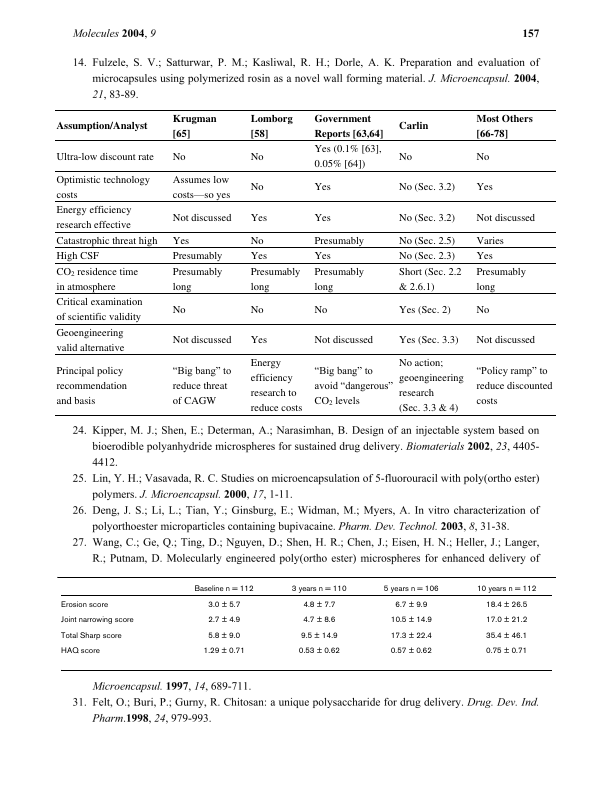borderless: (55, 108, 556, 415), (56, 575, 552, 670)
cell: (398, 356, 465, 415), (314, 362, 394, 408), (475, 362, 554, 407), (55, 364, 128, 407), (250, 356, 303, 415), (172, 362, 232, 407), (55, 173, 151, 201), (55, 295, 144, 324), (55, 265, 139, 293), (55, 203, 132, 232), (314, 111, 384, 140), (314, 142, 383, 171), (55, 326, 125, 354), (398, 265, 463, 293), (475, 111, 534, 140), (172, 173, 231, 202), (475, 265, 527, 293), (172, 265, 223, 293), (250, 265, 301, 293), (314, 265, 365, 293), (55, 234, 158, 247), (172, 111, 218, 140), (55, 119, 148, 133), (55, 150, 155, 163), (250, 111, 294, 140), (398, 333, 460, 347), (475, 333, 536, 347), (172, 333, 232, 347), (314, 333, 374, 347), (398, 180, 456, 194), (398, 249, 456, 263), (475, 211, 536, 224), (172, 211, 232, 224), (398, 211, 456, 224), (398, 234, 456, 247), (59, 616, 134, 626), (172, 249, 223, 263), (398, 303, 452, 316), (314, 234, 365, 247), (55, 249, 100, 263), (59, 631, 122, 641), (475, 584, 537, 594), (193, 584, 254, 594), (290, 584, 347, 594), (382, 584, 439, 594), (59, 600, 108, 610), (484, 600, 528, 610), (484, 616, 528, 626), (484, 631, 528, 641), (484, 647, 528, 657), (398, 119, 429, 133), (389, 616, 432, 626), (389, 631, 432, 641), (202, 647, 245, 657), (297, 647, 340, 657), (389, 647, 432, 657), (59, 647, 100, 657), (475, 234, 505, 247), (299, 631, 338, 641), (207, 600, 241, 610), (302, 600, 336, 610), (394, 600, 428, 610), (207, 616, 241, 626), (302, 616, 336, 626), (207, 631, 241, 641), (475, 180, 494, 194), (475, 249, 494, 263), (314, 180, 332, 194), (250, 249, 268, 263), (314, 249, 332, 263), (250, 333, 268, 347), (250, 211, 268, 224), (314, 211, 332, 224), (172, 234, 190, 247), (250, 180, 265, 194), (172, 150, 187, 163), (250, 150, 265, 163), (398, 150, 413, 163), (475, 150, 490, 163), (250, 234, 265, 247), (172, 303, 187, 316), (250, 303, 265, 316), (475, 303, 490, 316), (314, 303, 328, 316)
